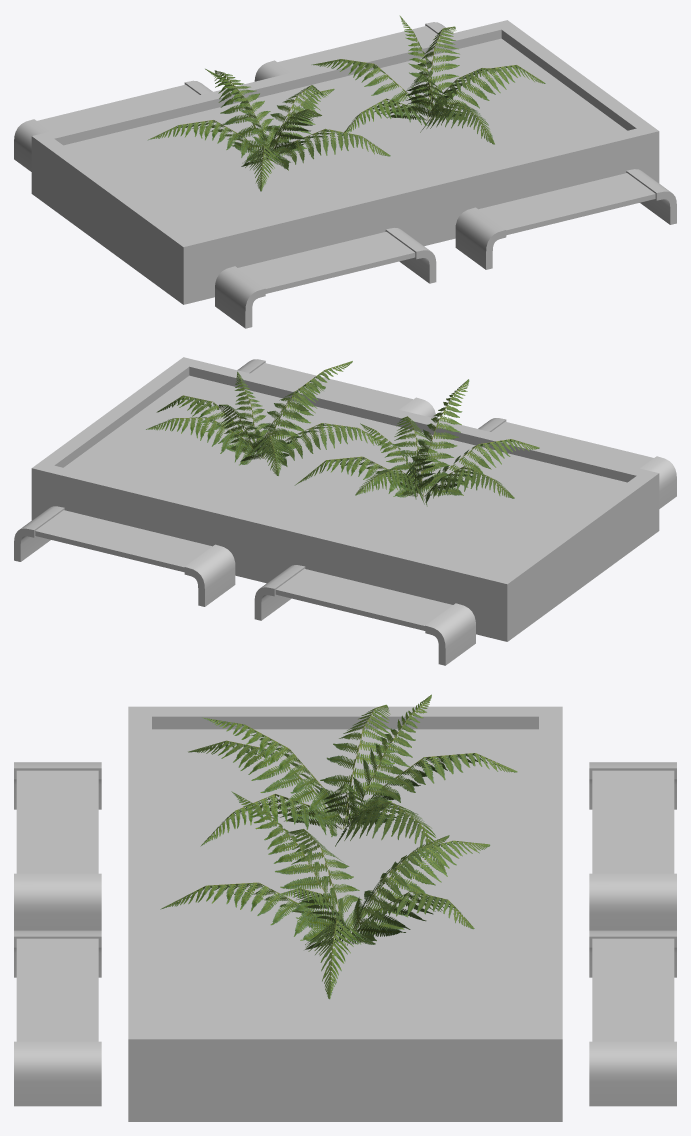
The model's file is Garden-01.fbx.
3 renders of one model, top to bottom at view 1: azimuth 30°, elevation 25°; view 2: azimuth 150°, elevation 25°; view 3: azimuth 270°, elevation 25°, orthographic. The views are drawn at different scales.
Parts seen in each view (by area): view 1: Garden-01; view 2: Garden-01; view 3: Garden-01.
Part boxes in pixels (x1,y1,x2,y2): Garden-01: (14, 15, 676, 328); Garden-01: (14, 357, 676, 665); Garden-01: (14, 694, 676, 1121).
Size of what is drawn, in the model's own units: 672 by 176 by 566.
